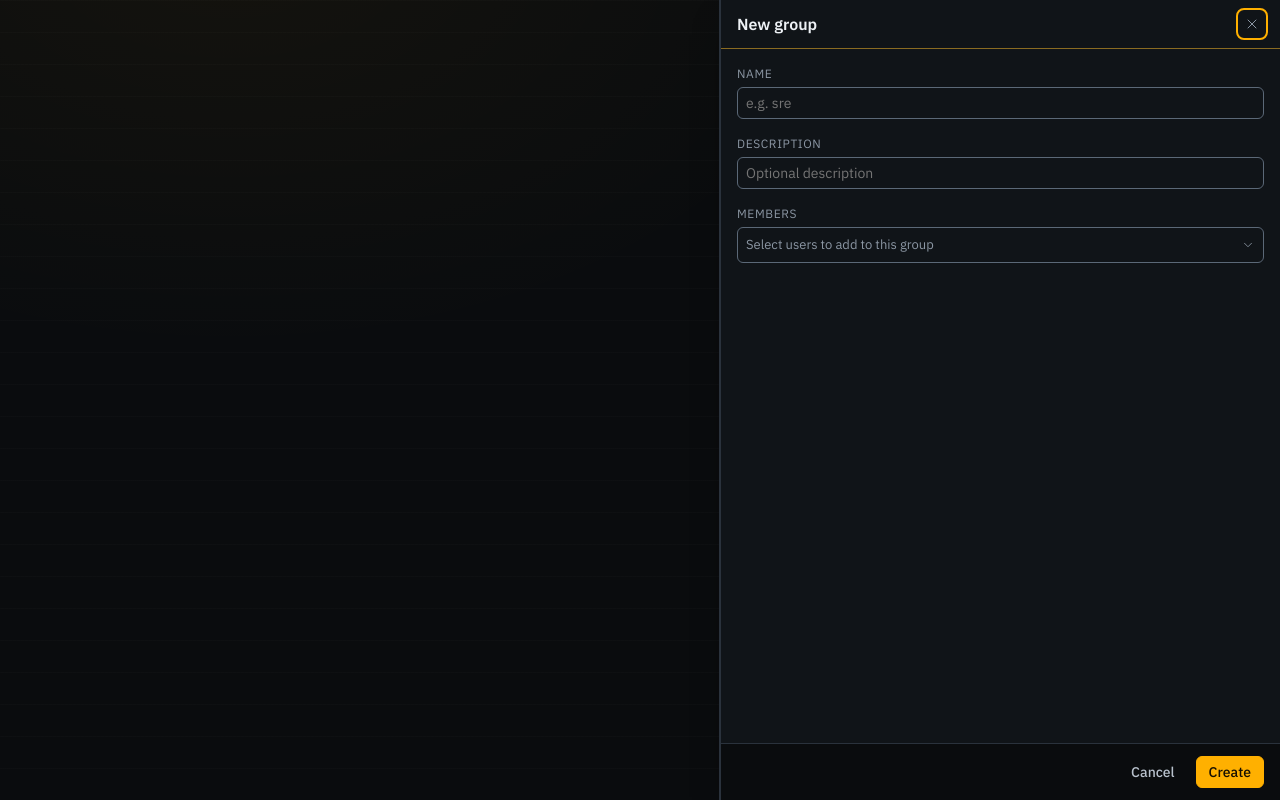
Test: GroupEditor › picks a member from the existing-users dropdown, showing its auth method
Click the dropdown named "members" at (840, 245), box [737,227,1264,263]
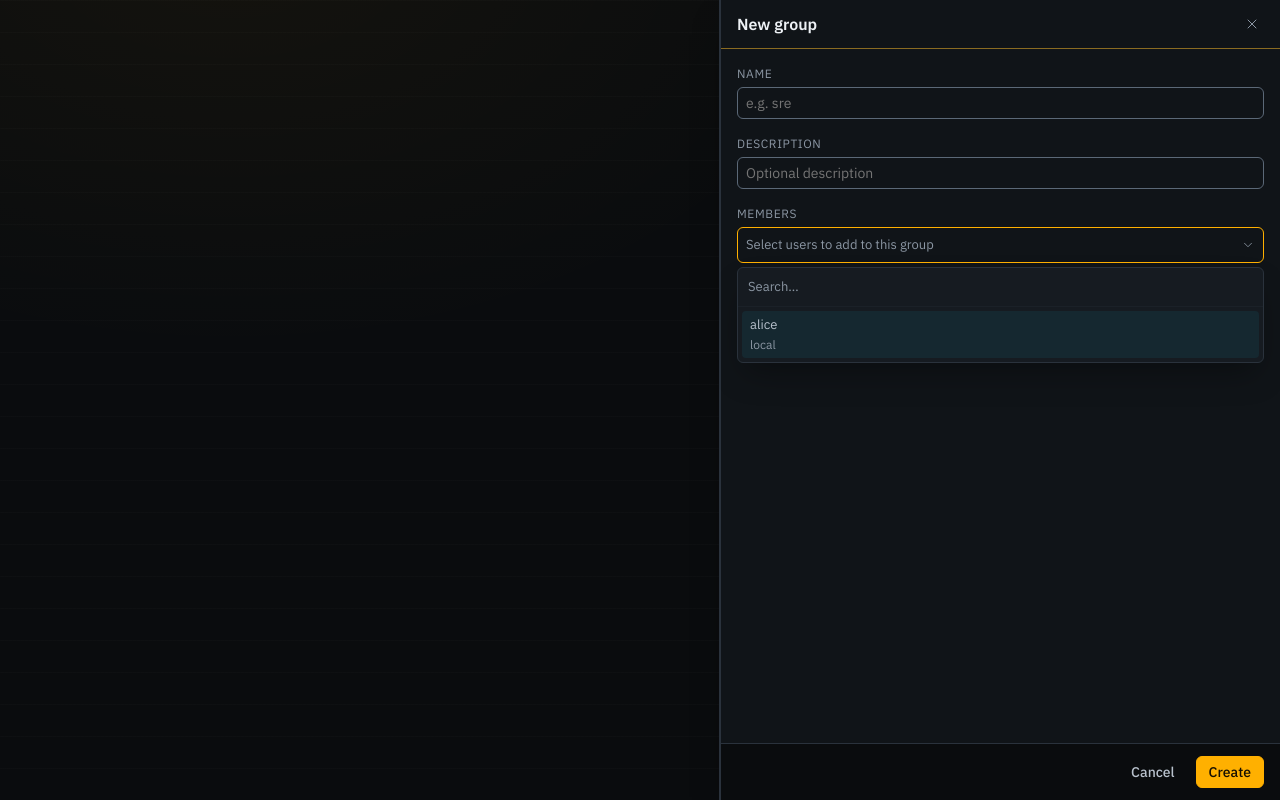
Expected: the option "alice local" is shown
Click the option "alice local" at (764, 324), box [742,310,1259,358]
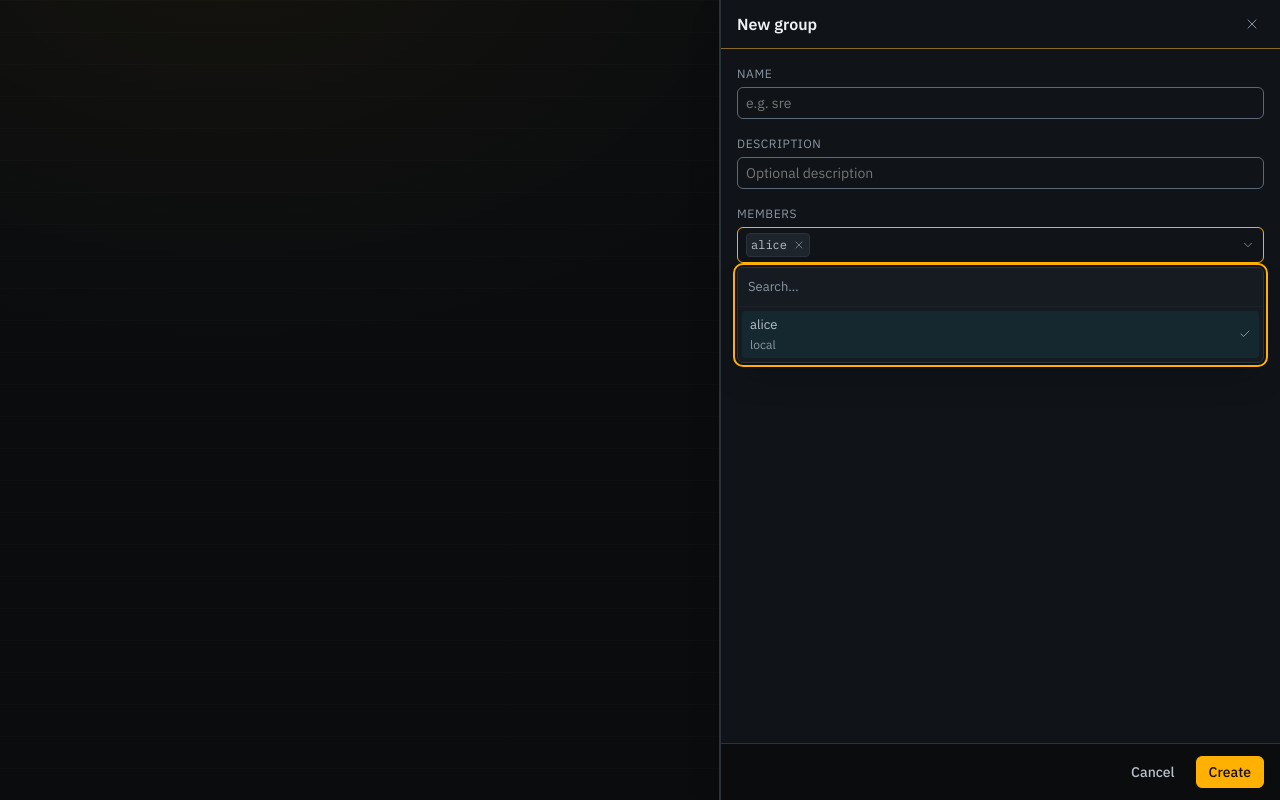
Expected: the button named "Remove alice" is shown, [793,239,805,251]
